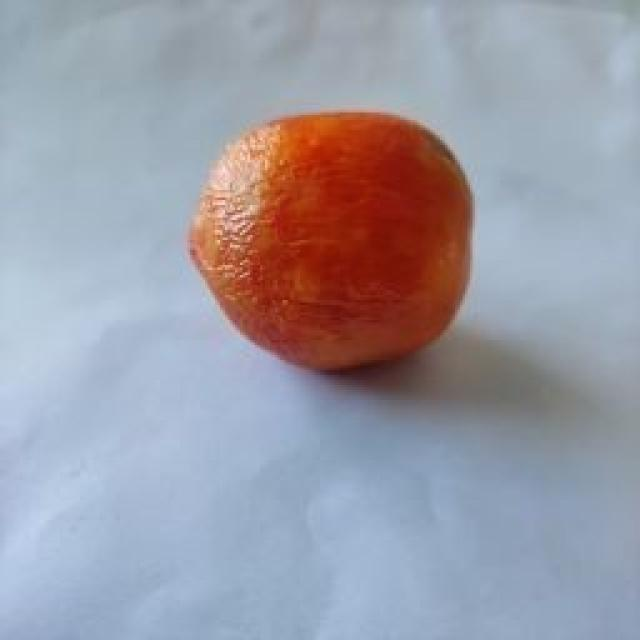overripe: (190, 105, 480, 377)
